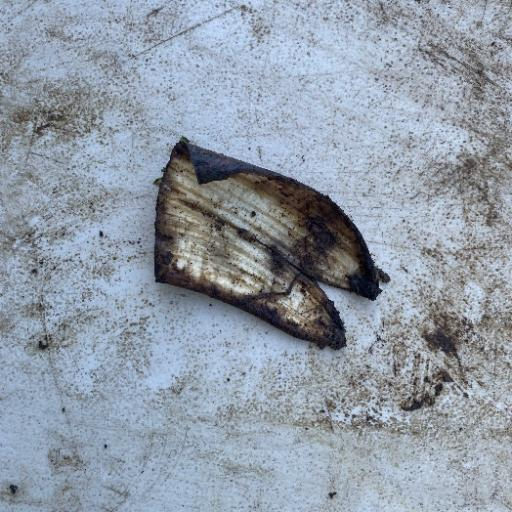Waste: (150, 135, 390, 352)
